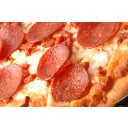pepperonipizza: (1, 21, 128, 105)
